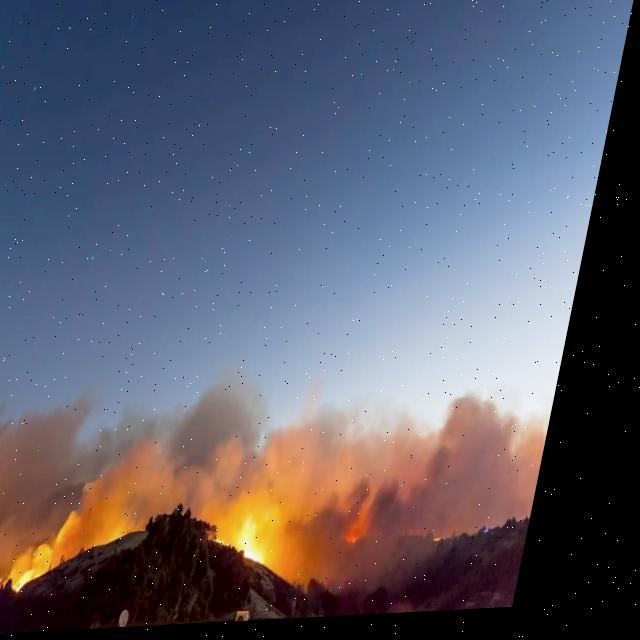Fire: (0, 374, 575, 618), (226, 518, 297, 572), (11, 548, 80, 600), (456, 542, 464, 548)
